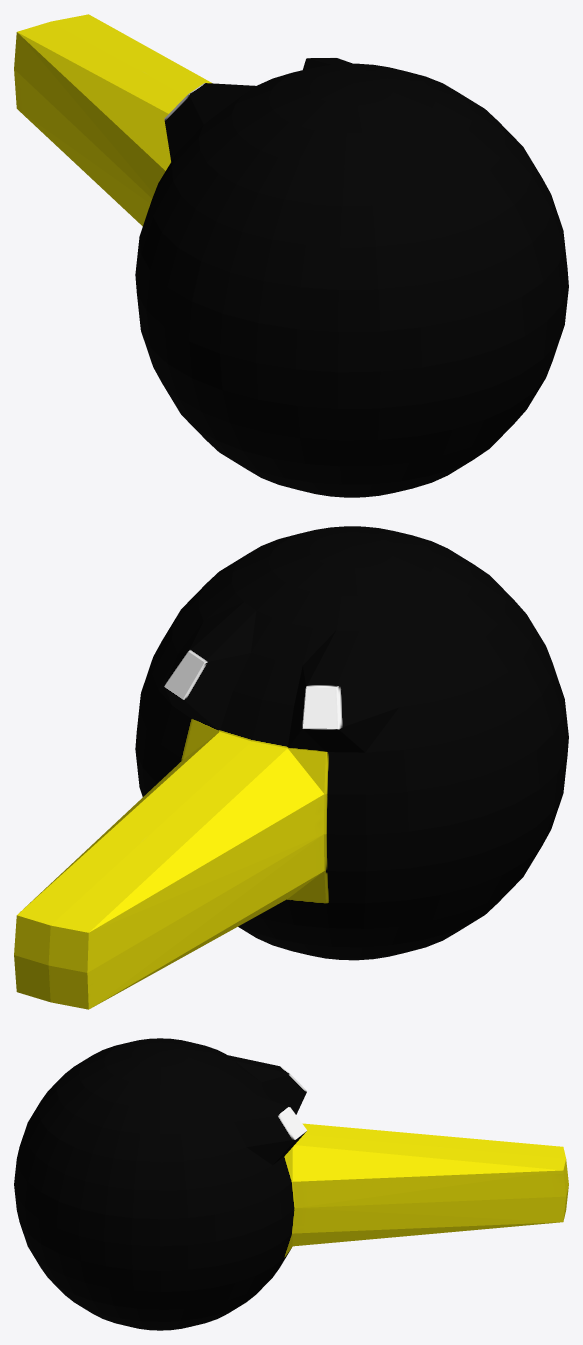
File: PlayerFeace.obj
3 renders of one model, top to bottom at view 1: azimuth 30°, elevation 25°; view 2: azimuth 150°, elevation 25°; view 3: azimuth 270°, elevation 25°, orthographic. The views are drawn at different scales.
Visible parts, largest first — view 1: Feace; view 2: Feace; view 3: Feace.
Boxes of the visible parts, bbox=[...] form: Feace: bbox=[14, 14, 568, 497]; Feace: bbox=[14, 526, 568, 1009]; Feace: bbox=[14, 1038, 568, 1330].
Bounding box in the file's own units: 1.4 × 1.4 × 2.66.
1 material, 1 textured.
